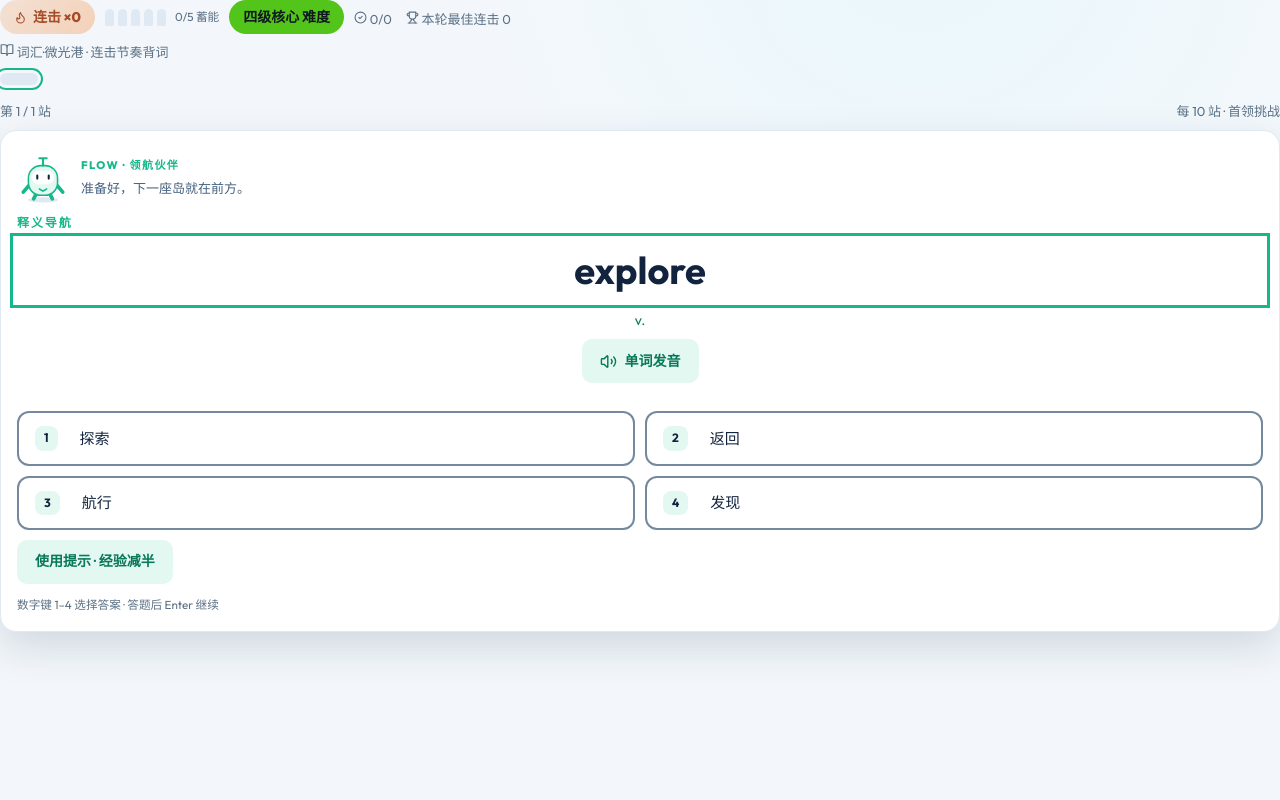
real vocabulary mission › does not skip or resubmit a failed save and resumes after the original operation retries
Step 1. Click the button "1 探索" → (95, 438), box [17, 411, 635, 466]
(page scrolled)
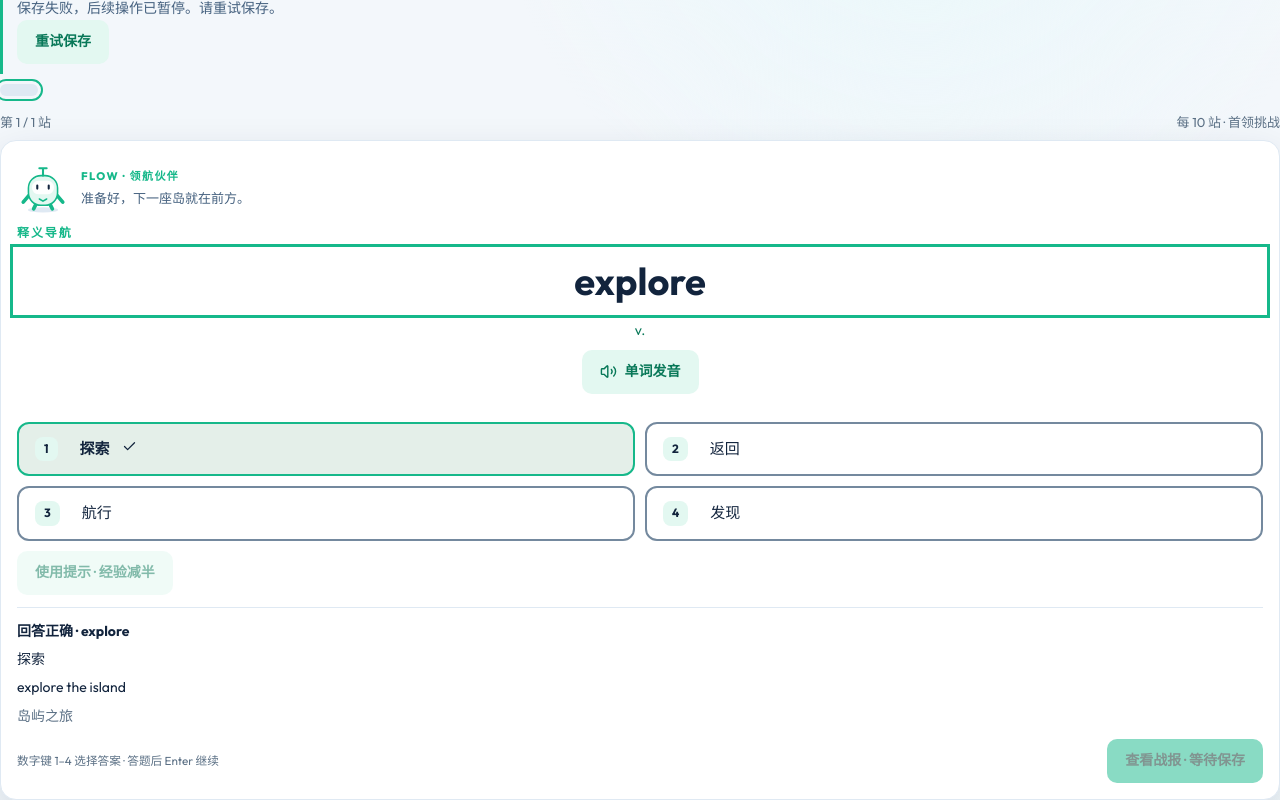
expect the button "查看战报 · 等待保存" is disabled: met, box [1107, 739, 1263, 783]
Step 2. Press Enter
(page scrolled)
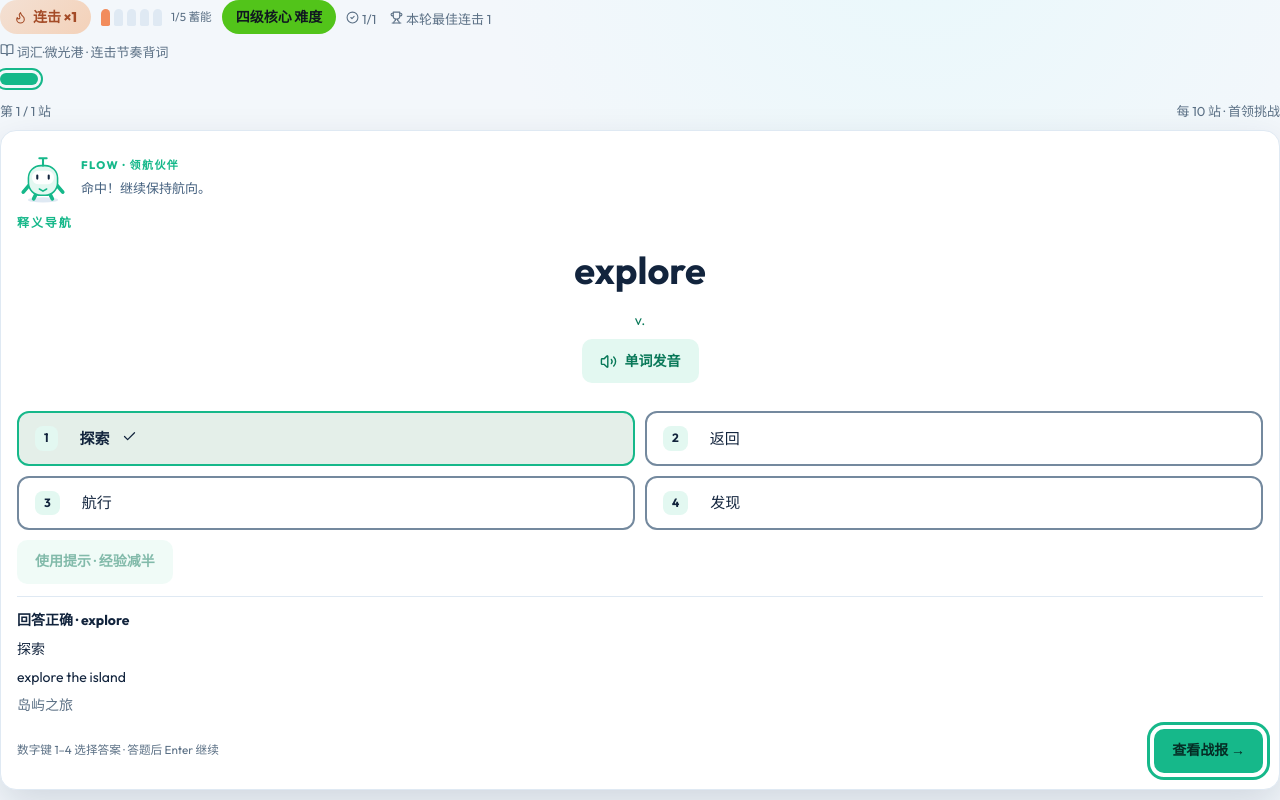
expect the heading "航程完成" is not shown: met
expect the button "查看战报 →" is enabled: met, box [1154, 729, 1263, 773]
Step 3. Press Enter
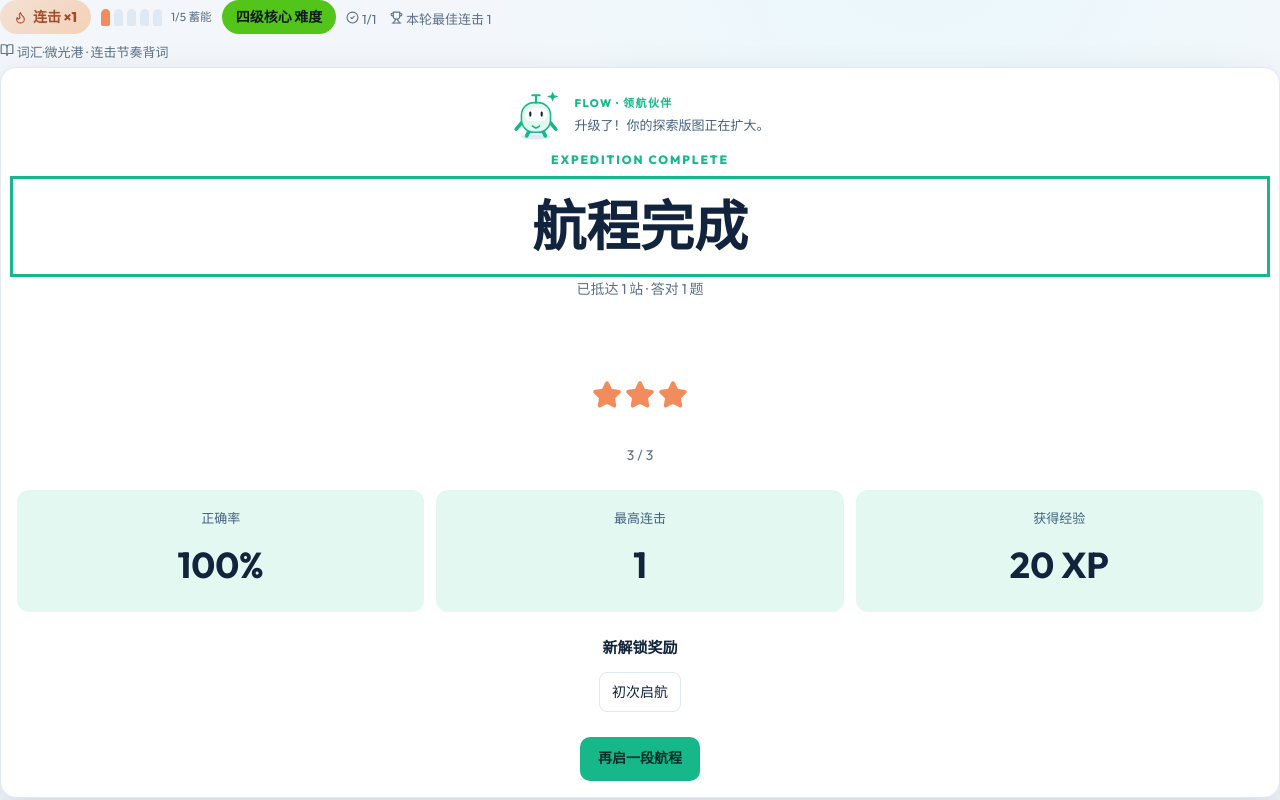
expect the heading "航程完成" is shown: met, box [532, 192, 748, 260]
